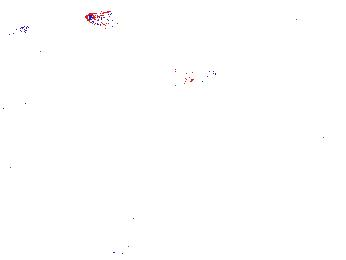X-ray fish: (28, 41, 64, 68)
glassfish: (230, 97, 332, 164)
red belly glassfish: (84, 10, 135, 33), (286, 10, 316, 28)
redtail glassfish: (147, 64, 219, 90), (1, 23, 33, 46)
siberian prawn: (47, 232, 141, 260)
